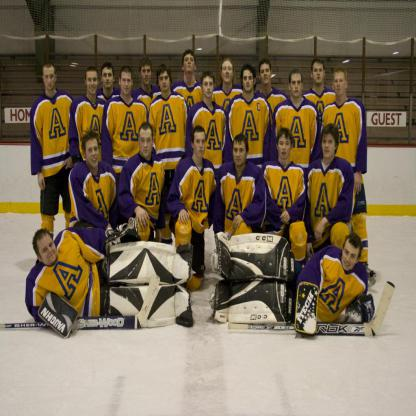face: (38, 235, 58, 266), (342, 240, 361, 271), (140, 130, 154, 158), (86, 140, 100, 168), (322, 134, 336, 159), (234, 142, 247, 167), (195, 132, 207, 157), (291, 75, 303, 99), (279, 135, 291, 159), (334, 73, 346, 96), (87, 72, 99, 95), (121, 72, 133, 94), (45, 68, 57, 90), (243, 71, 255, 92), (203, 78, 215, 98), (314, 63, 325, 84), (223, 62, 234, 83), (103, 68, 114, 89), (260, 65, 271, 84), (142, 66, 152, 86), (185, 55, 196, 72), (159, 73, 170, 90)
